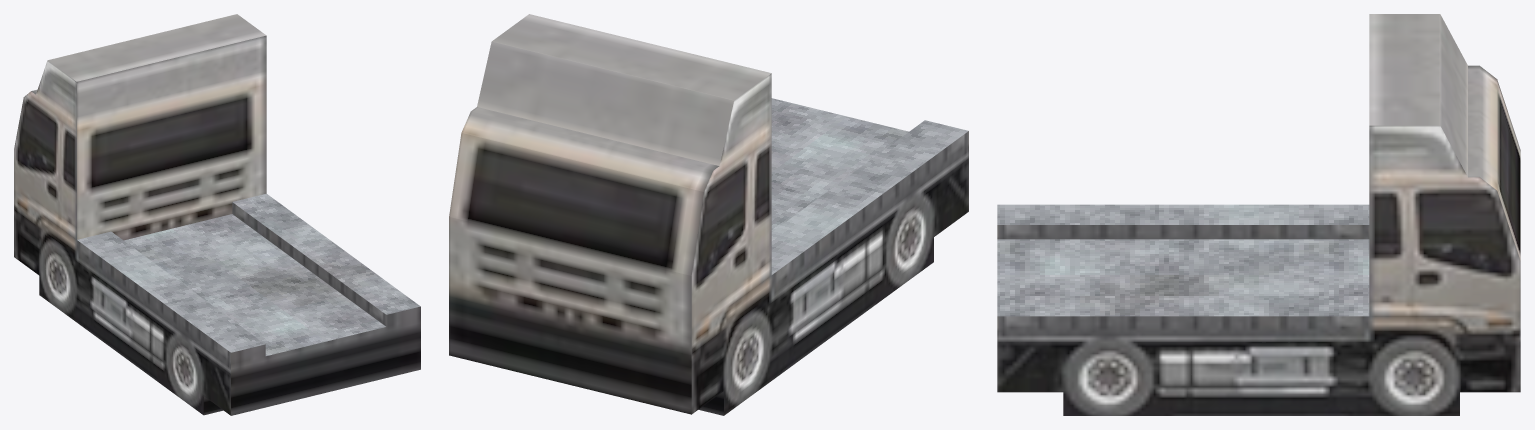
File: truck-flat.glb
3 renders of one model, left to right at view 1: azimuth 30°, elevation 25°; view 2: azimuth 150°, elevation 25°; view 3: azimuth 270°, elevation 25°, orthographic. The views are drawn at different scales.
Visible parts, largest first — view 1: truck-flat; view 2: truck-flat; view 3: truck-flat.
Part boxes in pixels (x1,y1,x2,y2): truck-flat: (14,14,420,415); truck-flat: (449,14,968,415); truck-flat: (997,14,1520,415).
Size of the model in its own units: 0.8301 by 1.01 by 1.64.
2 materials, 2 textured.
